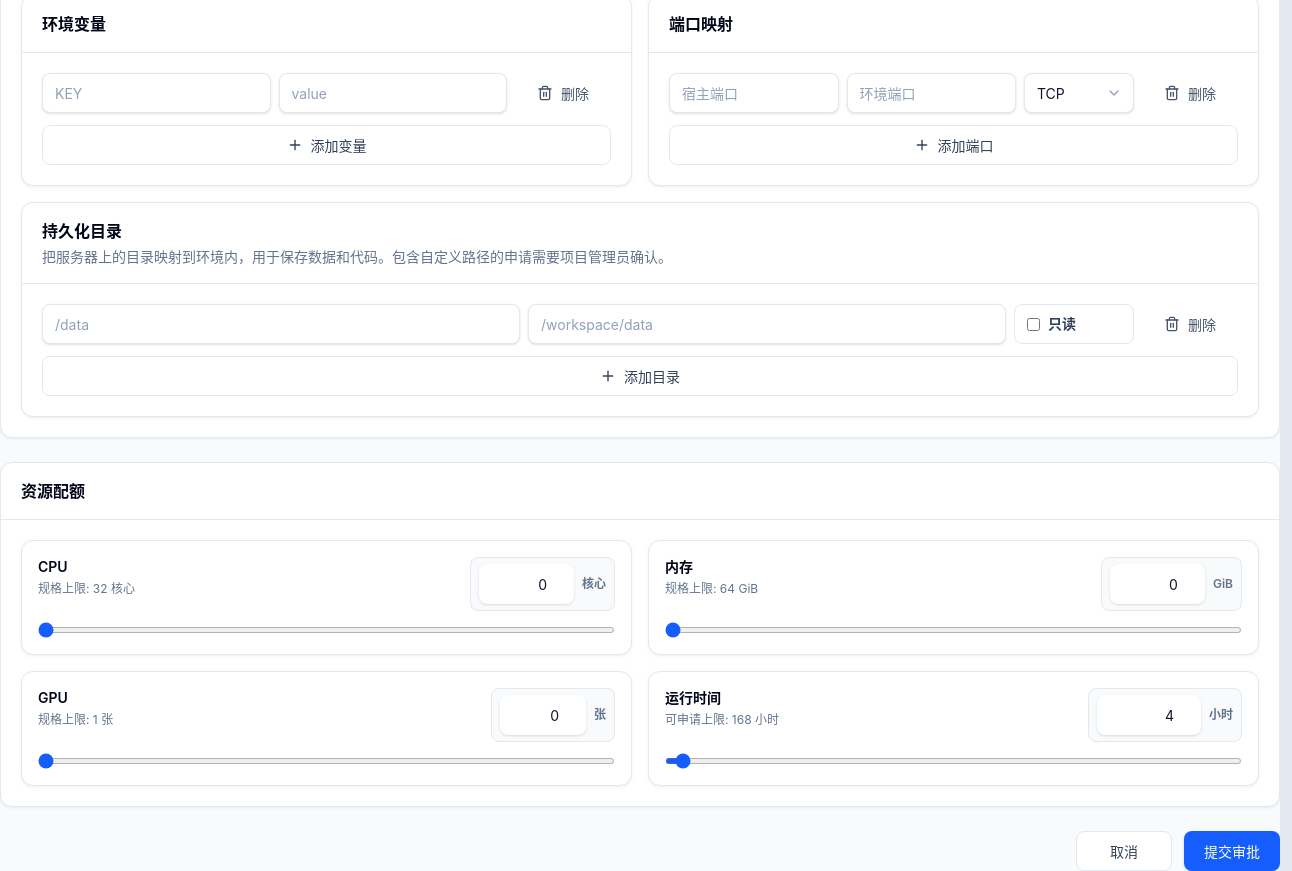
Test: RunRequestCreatePage › recomputes resource slider limits from the selected resource pool and clamps values
(page scrolled)
Replace the text in the number field named "CPU 数值" with "30": {"x": 526, "y": 584} [479,564,574,604]
(page scrolled)
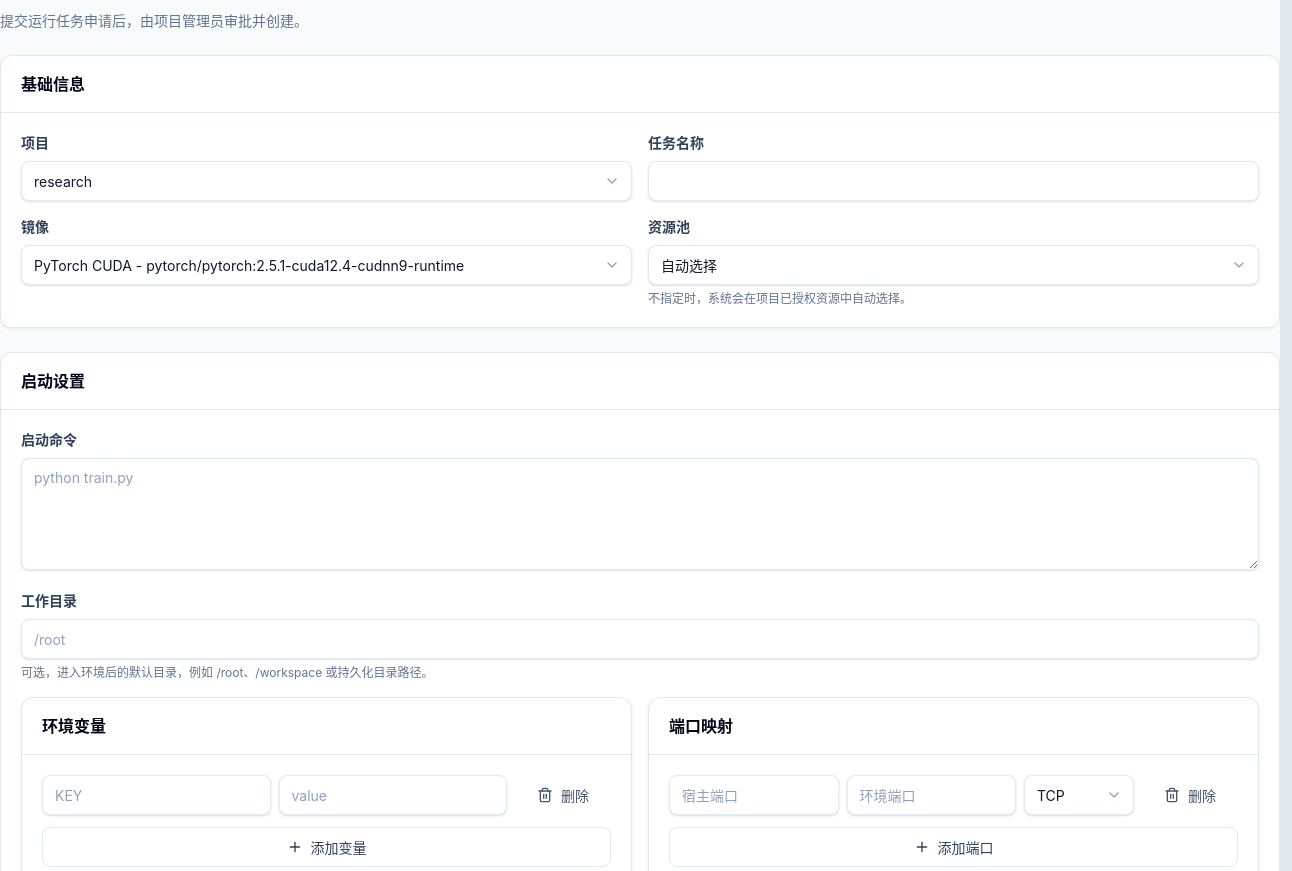
Select "small-pool" in the dropdown labelled "资源池": {"x": 954, "y": 265} [648,245,1259,285]
(page scrolled)
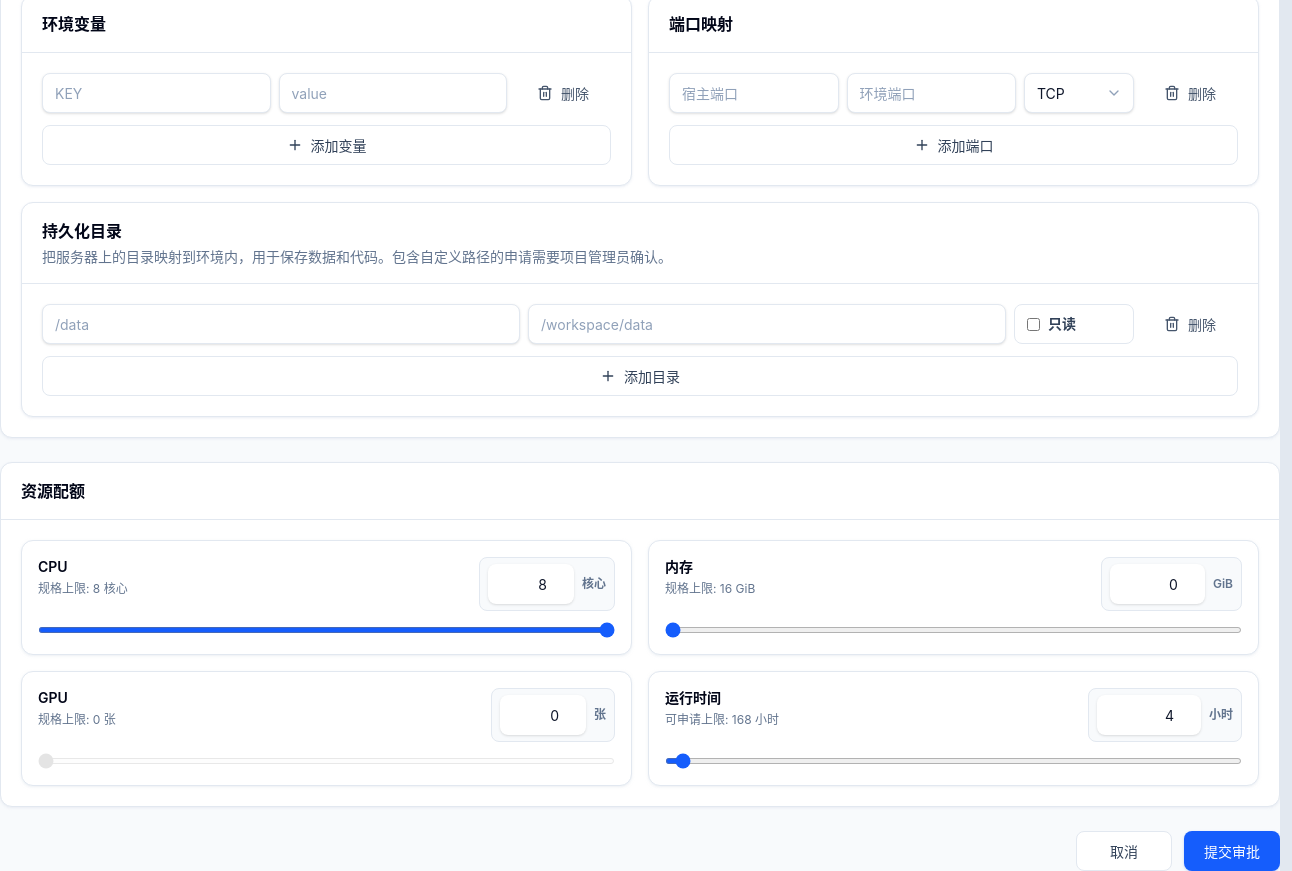
Check: the number field named "CPU 数值" holds "8", box [488,564,574,604]
